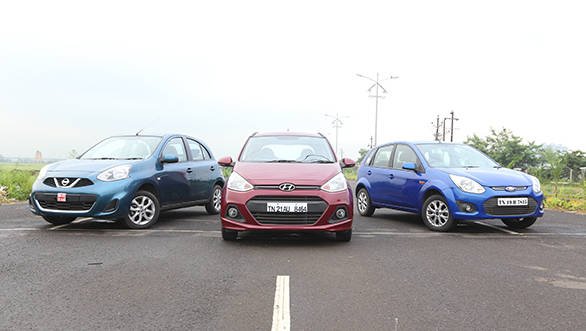car: (25, 128, 227, 236), (353, 136, 553, 244), (211, 124, 359, 247)
